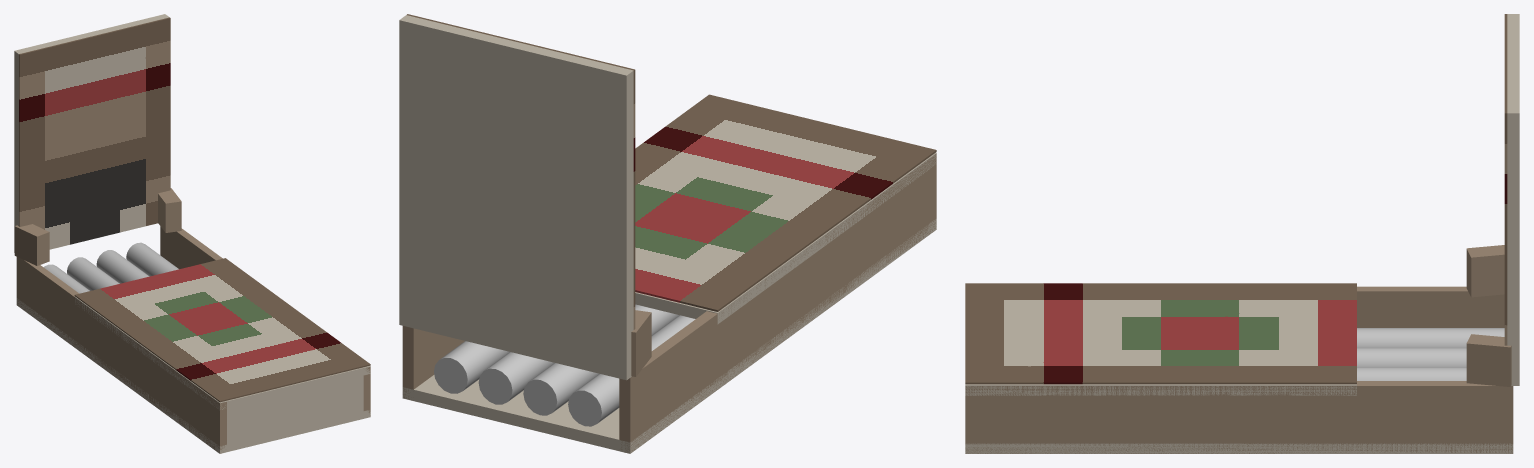
File: CMU3DCMCigarettePackLuckySlothsMiniPrintedSmallCloudOpenFullStudy.glb
3 views of the same model, side by side, from view 1: azimuth 30°, elevation 25°; view 2: azimuth 150°, elevation 25°; view 3: azimuth 270°, elevation 25° (orthographic). The views are drawn at different scales.
Parts seen in each view (by area): view 1: original open inner flap, original lower printed carton face, left folded side panel, lower end fold, carton back panel, folded side dust flap (×2), printed main carton panel, right folded side panel, raised upright carton flap, source full roll 3, source full roll 4, source full roll 2 (+1 smaller); view 2: raised upright carton flap, original lower printed carton face, left folded side panel, carton back panel, printed main carton panel, right folded side panel, source full roll 2, source full roll 1, original open inner flap, source full roll 3, source full roll 4, roll end 4 (+4 smaller); view 3: original lower printed carton face, right folded side panel, left folded side panel, carton back panel, raised upright carton flap, printed main carton panel, folded side dust flap (×2), source full roll 1, source full roll 2, source full roll 3, original open inner flap.
Boxes of the visible parts, x1,y1,x2,y2 form: original open inner flap: (19,17,170,249); original lower printed carton face: (74,258,370,402); left folded side panel: (16,257,226,453); lower end fold: (227,369,363,445); carton back panel: (16,298,370,453); folded side dust flap (×2): (14,188,181,265); printed main carton panel: (75,296,370,410); right folded side panel: (160,226,370,416); raised upright carton flap: (14,14,169,252); source full roll 3: (98,251,149,283); source full roll 4: (127,243,178,276); source full roll 2: (68,259,119,290); raised upright carton flap: (399,15,633,380); original lower printed carton face: (635,94,936,311); left folded side panel: (619,154,936,452); carton back panel: (402,219,936,453); printed main carton panel: (635,152,936,324); right folded side panel: (402,326,464,400); source full roll 2: (531,304,678,410); source full roll 1: (578,315,695,419); original open inner flap: (407,14,635,329); source full roll 3: (486,352,554,398); source full roll 4: (441,341,509,386); roll end 4: (434,354,473,393); original lower printed carton face: (965,283,1356,384); right folded side panel: (965,381,1513,453); left folded side panel: (1357,286,1504,327); carton back panel: (965,443,1513,453); raised upright carton flap: (1507,14,1519,385); printed main carton panel: (965,384,1356,395); folded side dust flap (×2): (1466,245,1511,386); source full roll 1: (1357,328,1504,347); source full roll 2: (1357,347,1466,366); source full roll 3: (1357,367,1466,380); original open inner flap: (1504,14,1507,345).
Bounding box in the file's own units: 0.1946 × 0.3 × 0.4425.
5 materials, 2 textured.
